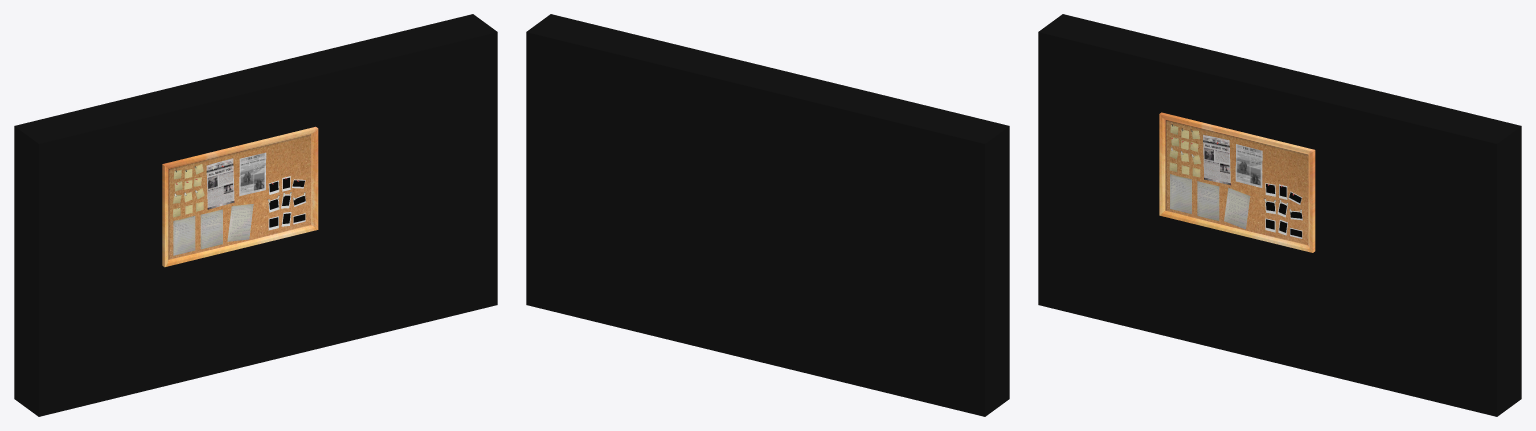
File: psx-style_cork_board_notes_polaroids__pins.glb
The picture shows the model from 3 angles, left to right: view 1: azimuth 30°, elevation 25°; view 2: azimuth 150°, elevation 25°; view 3: azimuth 330°, elevation 25°; orthographic projection.
Parts seen in each view (by area): view 1: Wall.002, CorkBoard, Newspaper, Newspaper.001, Paper Medium, Paper Long, Paper Short; view 2: Wall.002; view 3: Wall.002, CorkBoard, Newspaper, Newspaper.001, Paper Medium, Paper Short, Paper Long.
Part boxes in pixels (x1,y1,x2,y2): Wall.002: (14,14,497,416); CorkBoard: (162,126,318,267); Newspaper: (206,158,234,209); Newspaper.001: (239,152,266,196); Paper Medium: (200,209,222,249); Paper Long: (173,215,195,255); Paper Short: (227,204,253,241); Wall.002: (526,14,1009,416); Wall.002: (1038,14,1521,416); CorkBoard: (1159,112,1315,252); Newspaper: (1203,134,1230,185); Newspaper.001: (1235,144,1262,187); Paper Medium: (1197,181,1219,220); Paper Short: (1224,187,1250,229); Paper Long: (1170,174,1191,213).
Size of the model in its own units: 4.11 by 2.34 by 0.4308.
Materials: 10 (7 with a texture image).
